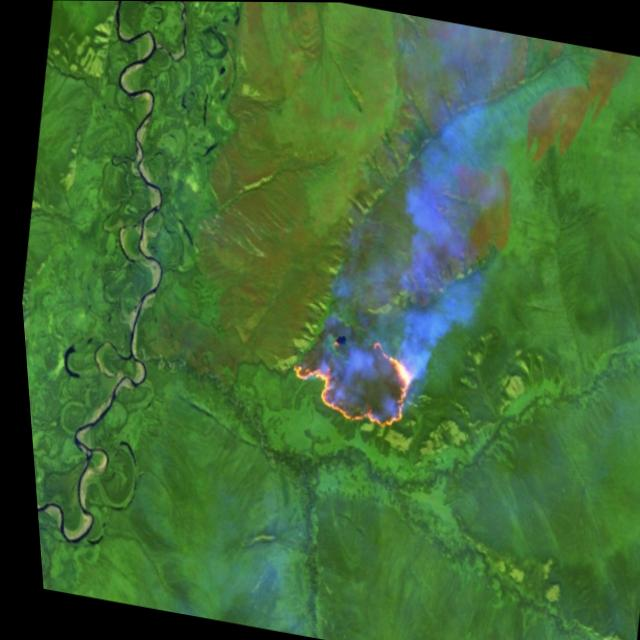fire: (269, 319, 419, 437)
